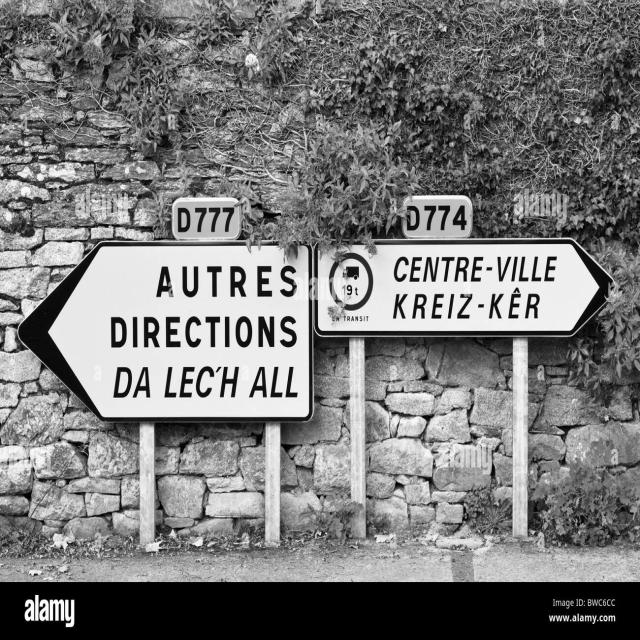direction: (17, 238, 326, 424), (315, 240, 630, 343)
forbidden: (328, 250, 374, 309)
